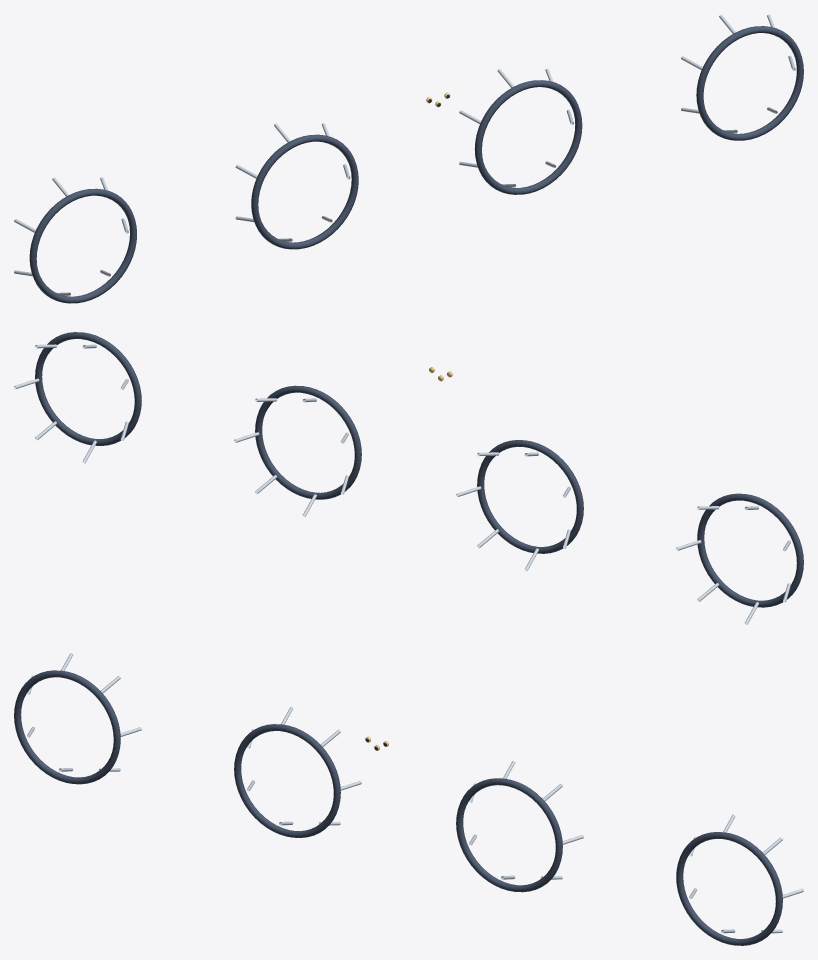
The model's file is 32_L91_DetectorSunshadeArray.fbx.
3 views of the same model, one above another, from view 1: azimuth 30°, elevation 25°; view 2: azimuth 150°, elevation 25°; view 3: azimuth 330°, elevation 25° (orthographic).
Parts seen in each view (by area): view 1: L91_DetectorSunshadeArray; view 2: L91_DetectorSunshadeArray; view 3: L91_DetectorSunshadeArray.
Part boxes in pixels (bbox=[...]): L91_DetectorSunshadeArray: bbox=[14, 14, 803, 303]; L91_DetectorSunshadeArray: bbox=[14, 332, 803, 624]; L91_DetectorSunshadeArray: bbox=[14, 653, 803, 945].
Size of the model in its own units: 19.85 by 3.53 by 1.76.
